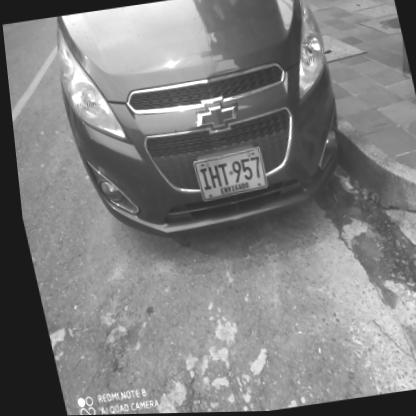placa: (183, 148, 268, 204)
